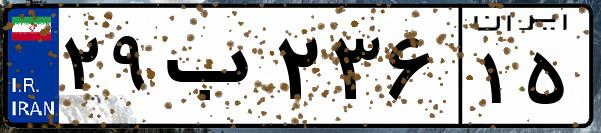1: (475, 38, 525, 113)
2: (270, 28, 330, 110), (57, 26, 110, 100)
3: (330, 28, 385, 110)
5: (525, 38, 570, 115)
6: (385, 28, 445, 110)
9: (110, 28, 158, 98)
ب: (158, 20, 270, 120)
